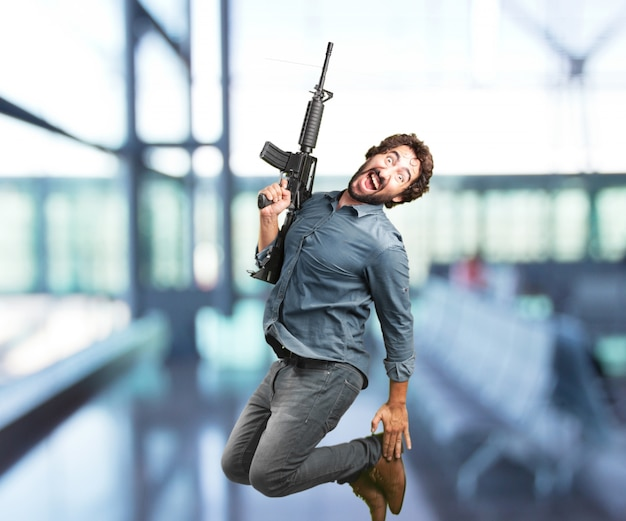gun: (245, 38, 335, 287)
